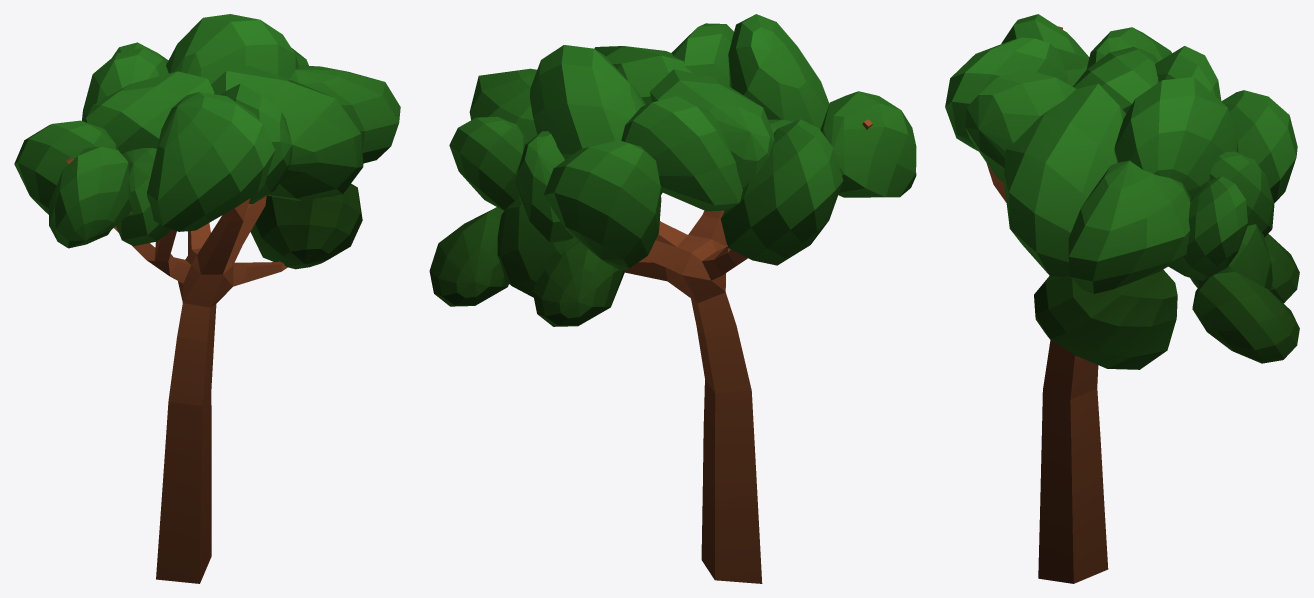
File: Tree_01.fbx
3 renders of one model, left to right at view 1: azimuth 30°, elevation 25°; view 2: azimuth 150°, elevation 25°; view 3: azimuth 270°, elevation 25°, orthographic. The views are drawn at different scales.
Visible parts, largest first — view 1: Tree_01; view 2: Tree_01; view 3: Tree_01.
Boxes of the visible parts, left/top/right/bottom form: Tree_01: left=14, top=14, right=400, bottom=583; Tree_01: left=429, top=14, right=916, bottom=583; Tree_01: left=945, top=14, right=1299, bottom=583.
Bounding box in the file's own units: 481 × 608 × 358.
